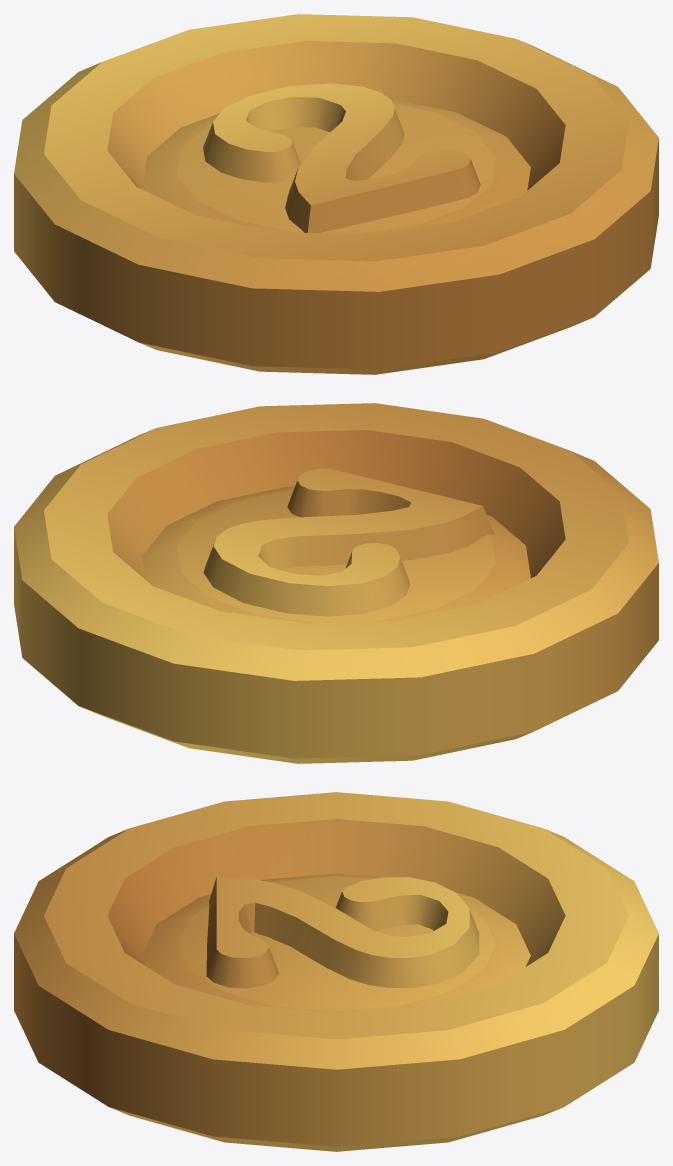
The model's file is coin_2_gold.obj.
3 renders of one model, top to bottom at view 1: azimuth 30°, elevation 25°; view 2: azimuth 150°, elevation 25°; view 3: azimuth 270°, elevation 25°, orthographic.
Parts seen in each view (by area): view 1: coin_2_gold; view 2: coin_2_gold; view 3: coin_2_gold.
Boxes of the visible parts, x1,y1,x2,y2 form: coin_2_gold: (14,14,658,374); coin_2_gold: (14,403,658,763); coin_2_gold: (14,792,658,1151).
Bounding box in the file's own units: 1.04 × 0.2 × 1.04.
1 material, 1 textured.
